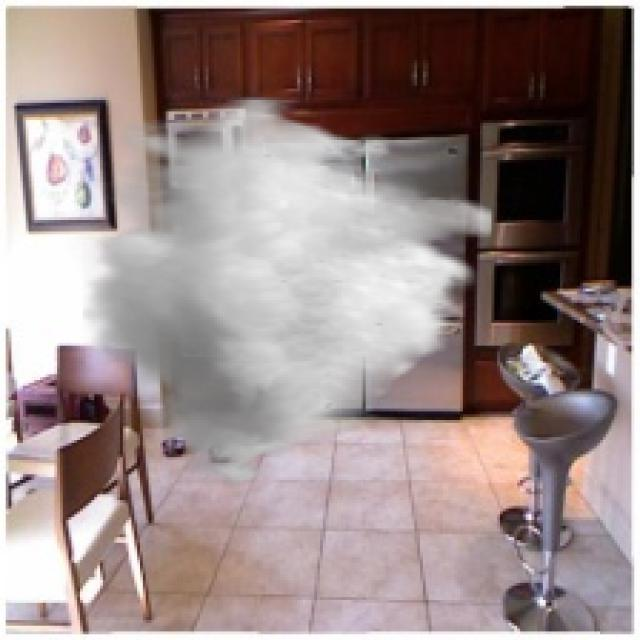Smoke: (82, 97, 494, 494)
